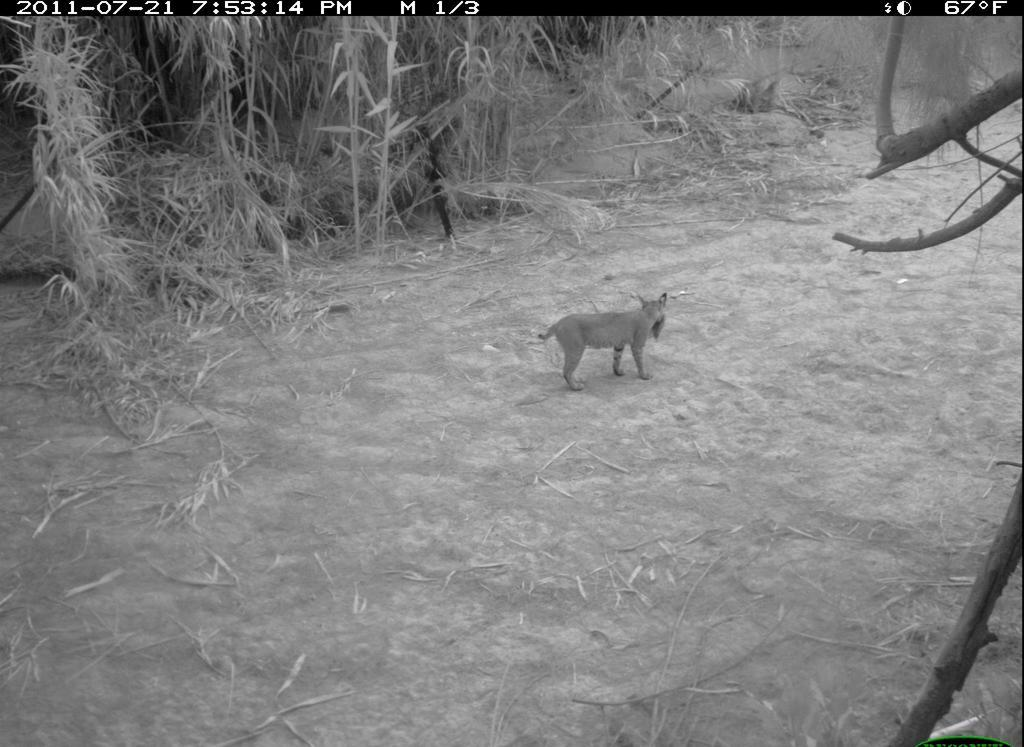bobcat: (534, 289, 674, 397)
squirrel: (648, 313, 670, 348)
